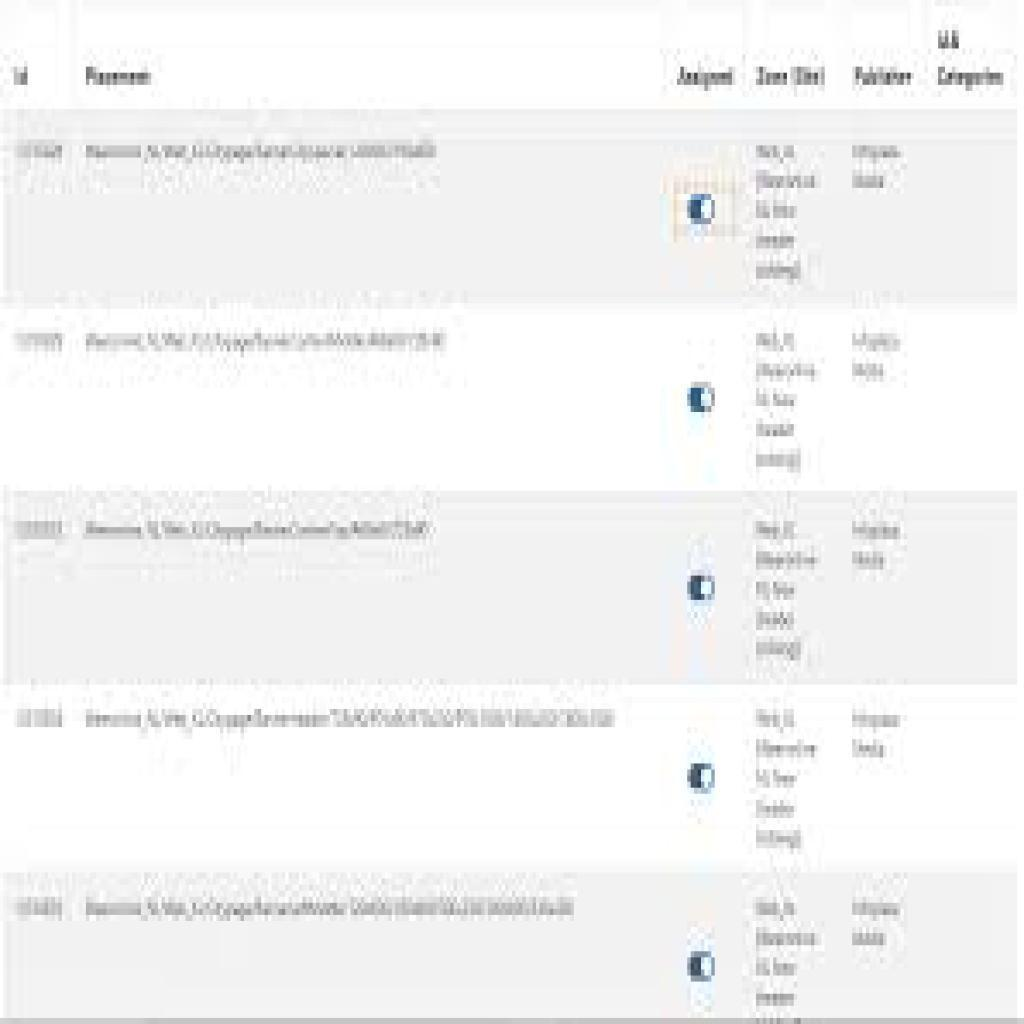checkbox: (687, 952, 720, 986)
switch: (687, 762, 720, 798), (687, 194, 719, 229), (688, 385, 717, 419), (687, 575, 719, 604)
